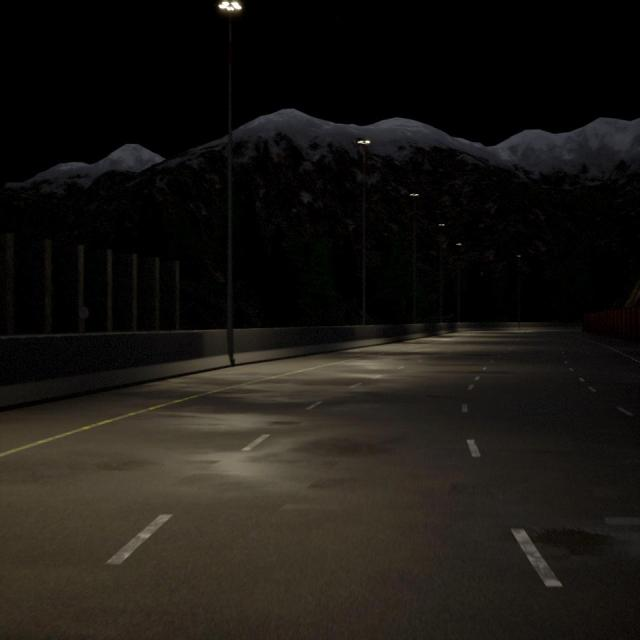Traffic_Signs: (79, 306, 88, 318)
